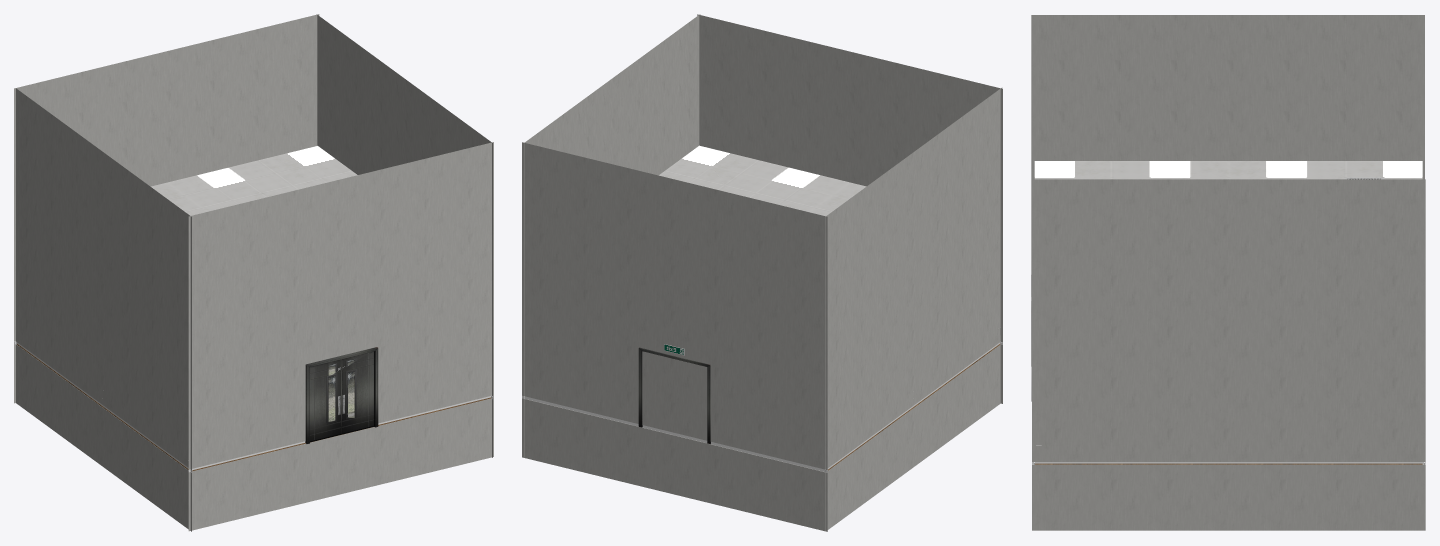
File: empty_office_space.glb
3 views of the same model, side by side, from view 1: azimuth 30°, elevation 25°; view 2: azimuth 150°, elevation 25°; view 3: azimuth 270°, elevation 25° (orthographic). The views are drawn at different scales.
Visible parts, largest first — view 1: Plane.042, Plane.059, Plane.058, Plane.057, Plane.041, Plane.055, Plane.040; view 2: Plane.058, Plane.059, Plane.042, Plane.057, Plane.041, Plane.043; view 3: Plane.057, Plane.059, Plane.041, Plane.040.
Boxes of the visible parts, x1,y1,x2,y2 form: Plane.042: (188,142,493,531); Plane.059: (16,88,192,531); Plane.058: (14,14,319,403); Plane.057: (317,15,492,457); Plane.041: (151,146,357,215); Plane.055: (305,347,378,443); Plane.040: (17,344,491,471); Plane.058: (522,142,827,531); Plane.059: (825,87,1002,531); Plane.042: (697,14,1002,403); Plane.057: (524,14,700,457); Plane.041: (659,145,866,216); Plane.043: (638,347,710,443); Plane.057: (1032,179,1425,530); Plane.059: (1031,15,1424,366); Plane.041: (1034,161,1422,179); Plane.040: (1035,463,1422,464).
Bounding box in the file's own units: 8.14 × 8.02 × 8.15.
Materials: 8 (7 with a texture image).
